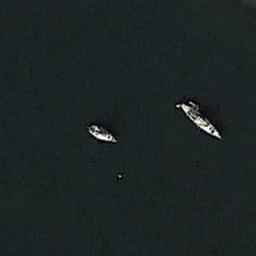boat: (177, 100, 221, 140), (86, 124, 118, 144)
